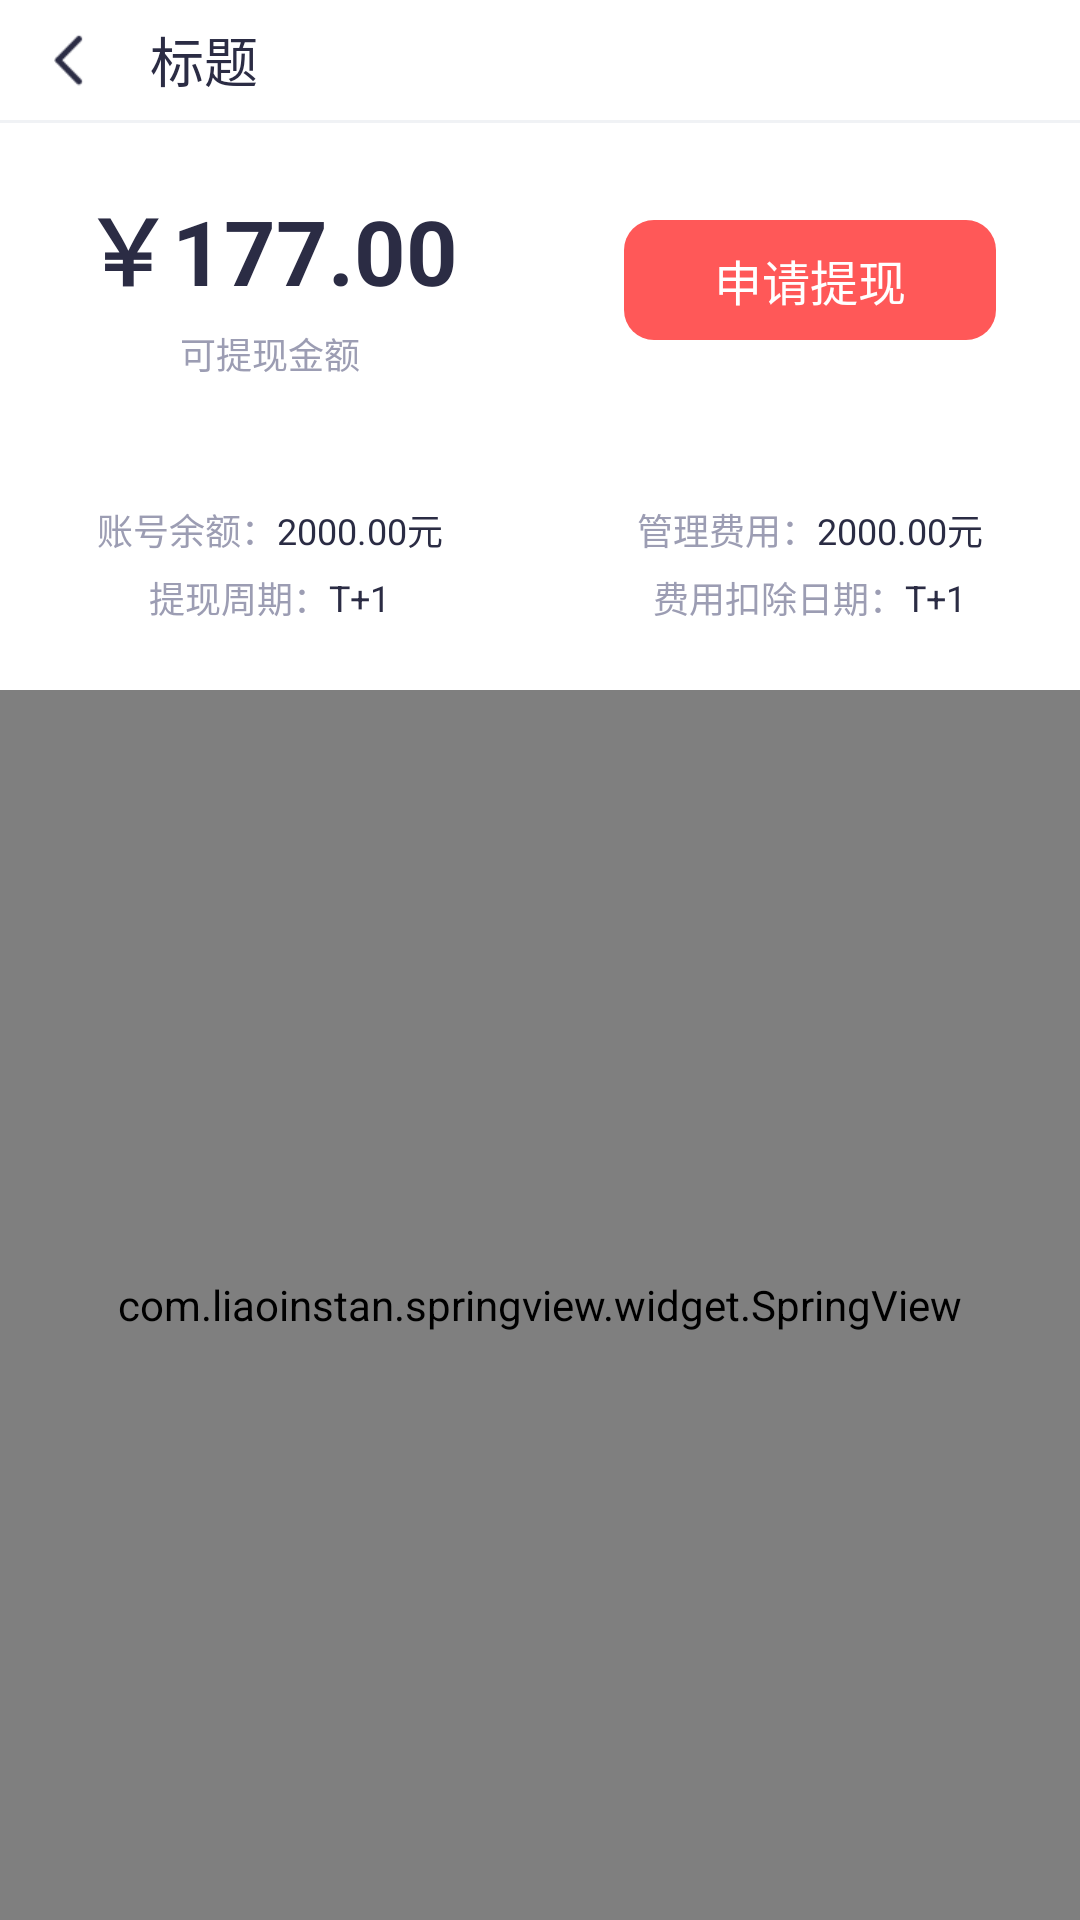

Where to tap for icons on this 1080*1920 app screen, as (x=x, y=y):
return: (x=68, y=60)
